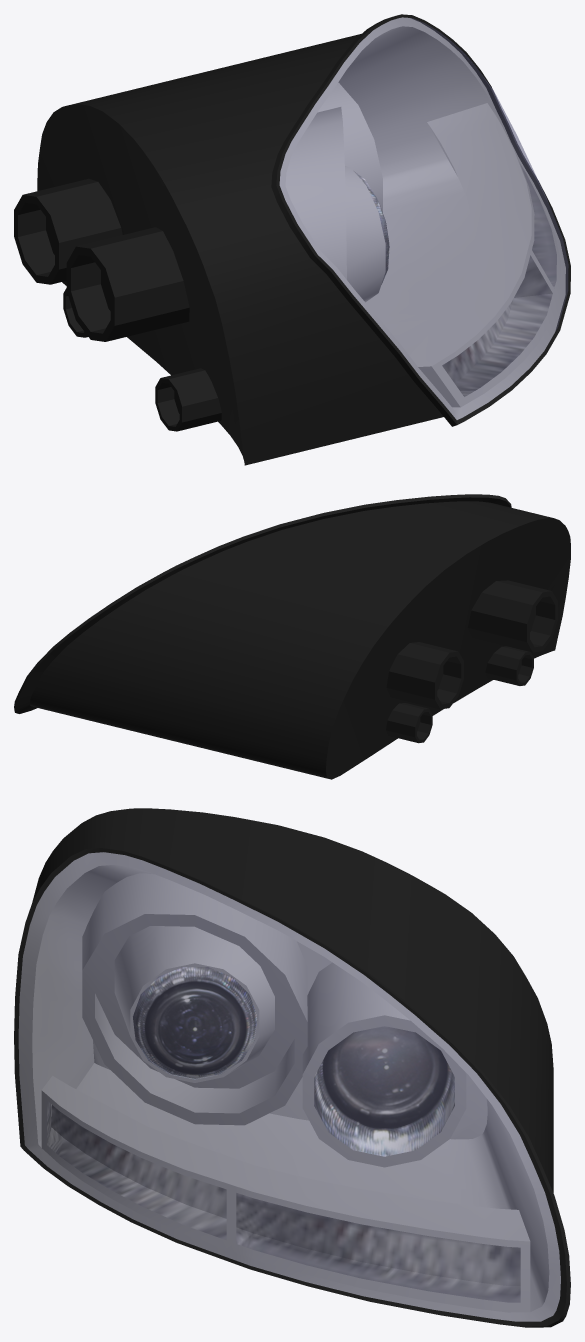
3 renders of one model, top to bottom at view 1: azimuth 30°, elevation 25°; view 2: azimuth 150°, elevation 25°; view 3: azimuth 270°, elevation 25°, orthographic. The views are drawn at different scales.
Parts seen in each view (by area): view 1: X6164_20_061B_R_X6164_20_061B_R_4_D, X6164_20_061B_R_X6164_20_061B_R_6_DTaSI, X6164_20_061B_R_7_DaS_X6164_20_061B_R, X6164_20_061B_R_X6164_20_061B_R_2_N, X6164_20_061B_R_X6164_20_061B_R_3_N; view 2: X6164_20_061B_R_X6164_20_061B_R_4_D; view 3: X6164_20_061B_R_X6164_20_061B_R_6_DTaSI, X6164_20_061B_R_7_DaS_X6164_20_061B_R, X6164_20_061B_R_X6164_20_061B_R_4_D, X6164_20_061B_R_X6164_20_061B_R_3_N, X6164_20_061B_R_X6164_20_061B_R_1_N, X6164_20_061B_R_X6164_20_061B_R_5_N, X6164_20_061B_R_X6164_20_061B_R_2_N.
Part boxes in pixels (x1,y1,x2,y2): X6164_20_061B_R_X6164_20_061B_R_4_D: (14, 14, 570, 465); X6164_20_061B_R_X6164_20_061B_R_6_DTaSI: (280, 17, 568, 419); X6164_20_061B_R_7_DaS_X6164_20_061B_R: (279, 17, 565, 419); X6164_20_061B_R_X6164_20_061B_R_2_N: (442, 255, 552, 396); X6164_20_061B_R_X6164_20_061B_R_3_N: (520, 164, 556, 287); X6164_20_061B_R_X6164_20_061B_R_4_D: (14, 494, 570, 779); X6164_20_061B_R_X6164_20_061B_R_6_DTaSI: (19, 852, 560, 1321); X6164_20_061B_R_7_DaS_X6164_20_061B_R: (18, 852, 560, 1321); X6164_20_061B_R_X6164_20_061B_R_4_D: (14, 808, 570, 1327); X6164_20_061B_R_X6164_20_061B_R_3_N: (236, 1193, 520, 1302); X6164_20_061B_R_X6164_20_061B_R_1_N: (314, 1026, 454, 1156); X6164_20_061B_R_X6164_20_061B_R_5_N: (133, 967, 257, 1079); X6164_20_061B_R_X6164_20_061B_R_2_N: (47, 1101, 226, 1239).
Size of the model in its own units: 50.09 by 22.47 by 41.82.
